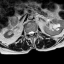CCS_normal: (30, 28, 32, 38)
LFS_normal: (34, 28, 36, 35)
LLS_normal: (32, 28, 34, 36)
RFS_normal: (26, 29, 28, 36)
RLS_normal: (28, 29, 30, 37)
